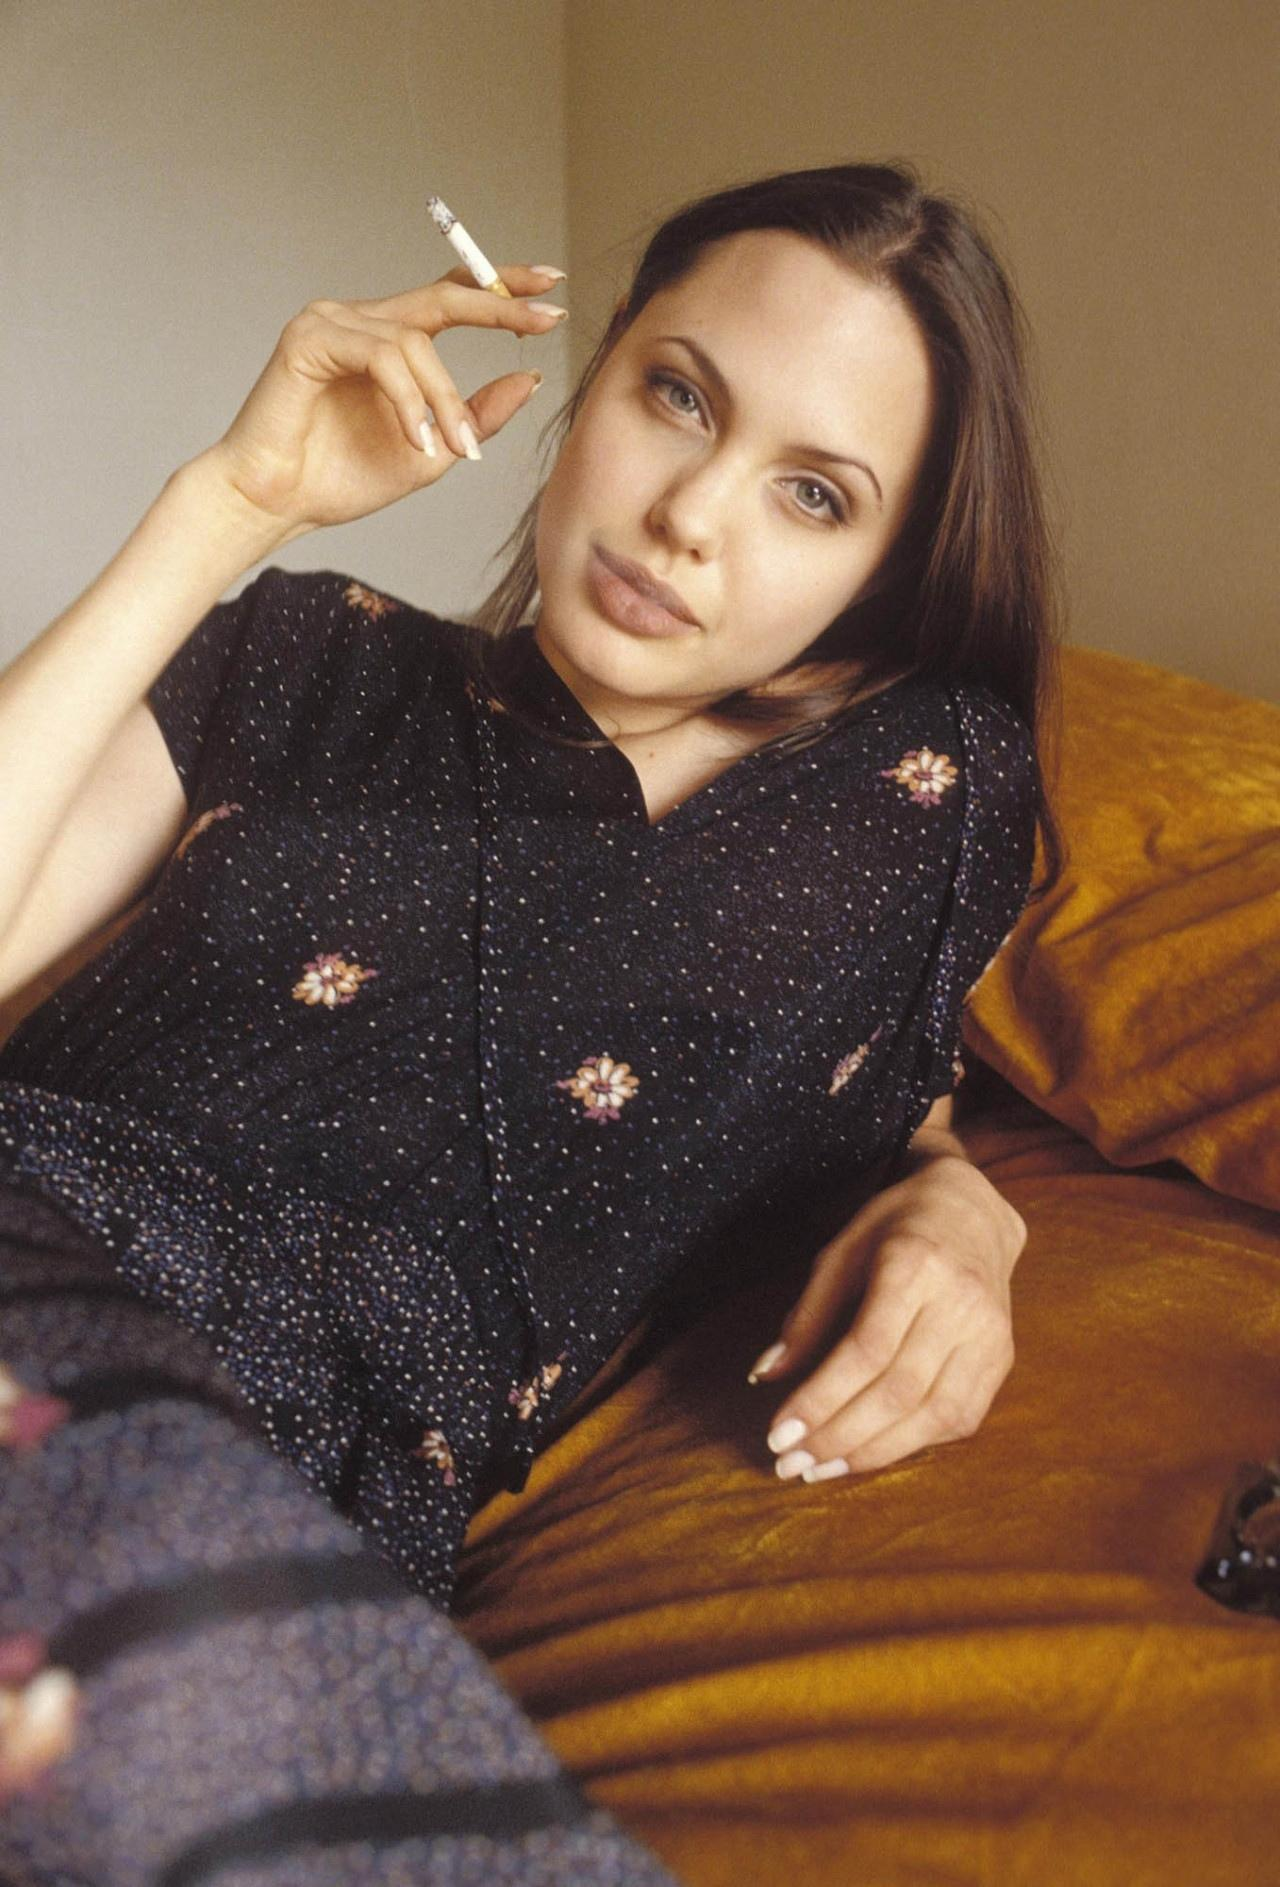cigarette: (426, 196, 534, 339)
